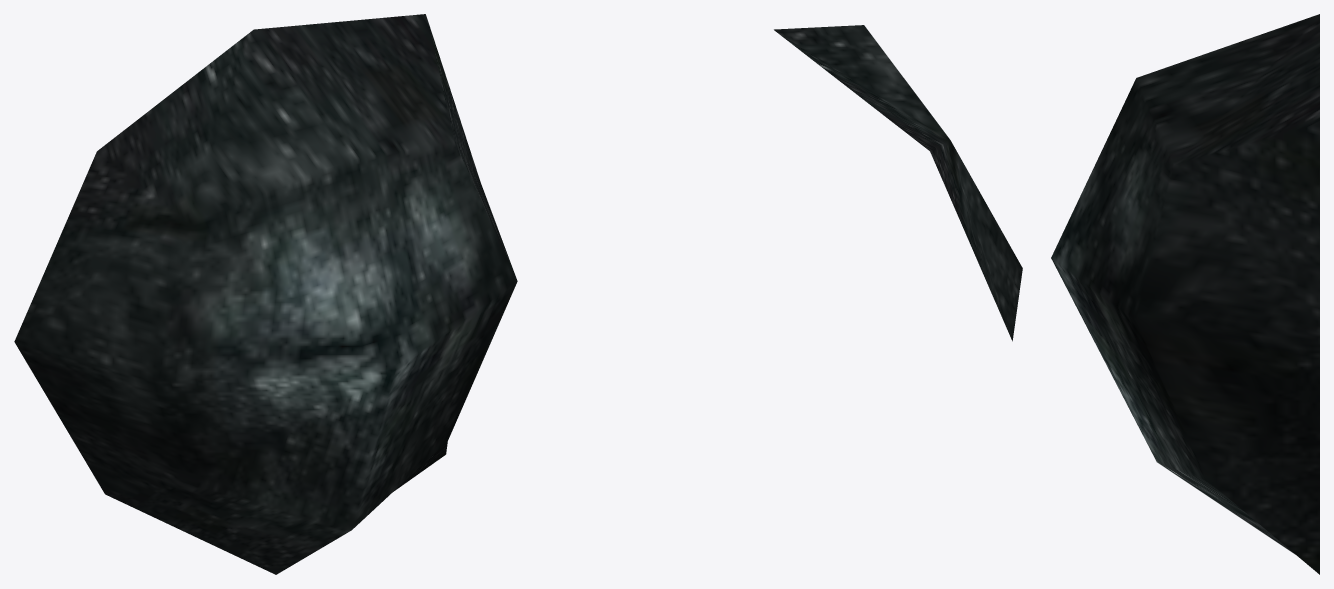
The picture shows the model from 3 angles, left to right: view 1: azimuth 30°, elevation 25°; view 2: azimuth 150°, elevation 25°; view 3: azimuth 270°, elevation 25°; orthographic projection.
Visible parts, largest first — view 1: model_Object05; view 2: model_Object05; view 3: model_Object05.
Part boxes in pixels (<box>): model_Object05: <box>14,14,517,574</box>; model_Object05: <box>774,25,1022,341</box>; model_Object05: <box>1051,14,1319,574</box>.
Bounding box in the file's own units: 1.23 × 1.39 × 0.6214.
1 material, 1 textured.
